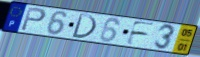3: (152, 23, 177, 52)
6: (44, 10, 69, 37), (98, 17, 123, 43)
D: (70, 13, 97, 41)
F: (124, 20, 157, 46)
P: (19, 6, 48, 33)
